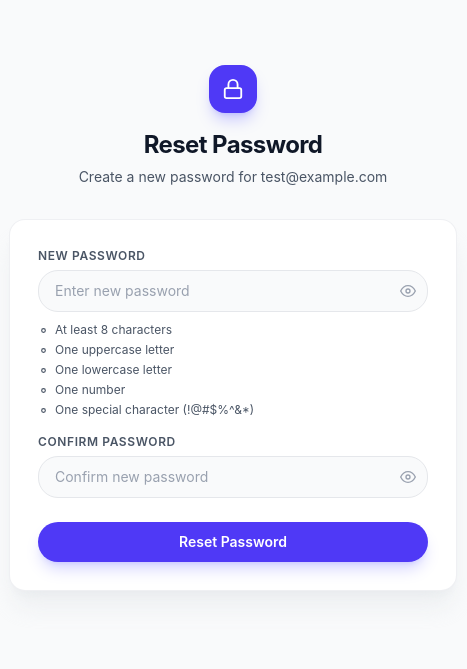
Test: ResetPasswordPage › Error Handling › should display error message on failure
Type "StrongP@ss123" into the password field labelled "New Password" at (233, 291), box [38,270,428,312]
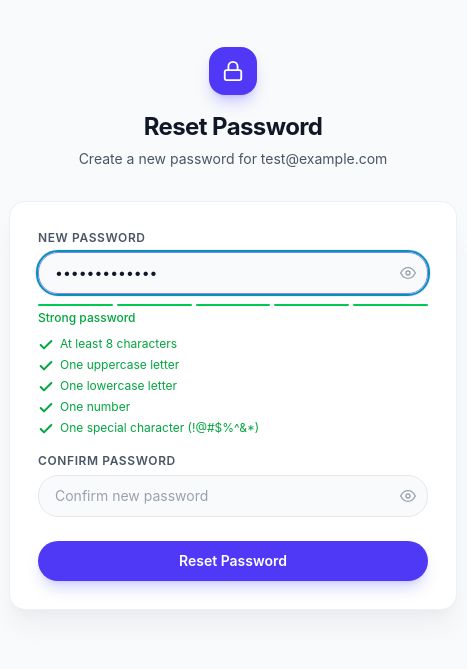
Type "StrongP@ss123" into the password field labelled "Confirm Password" at (233, 496), box [38,474,428,516]
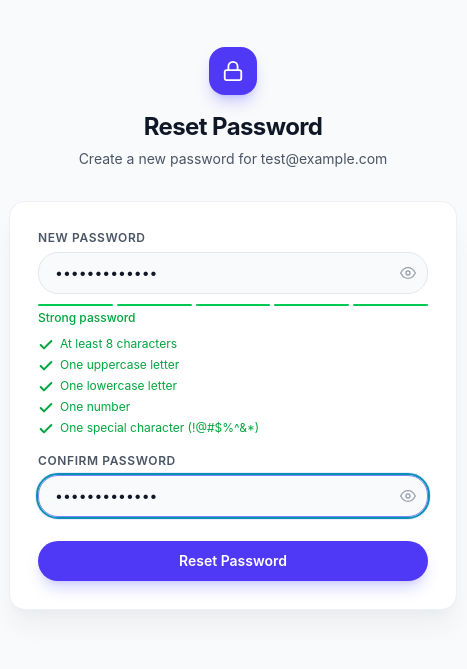
Click the button "Reset Password" at (233, 560), box [38,540,428,580]
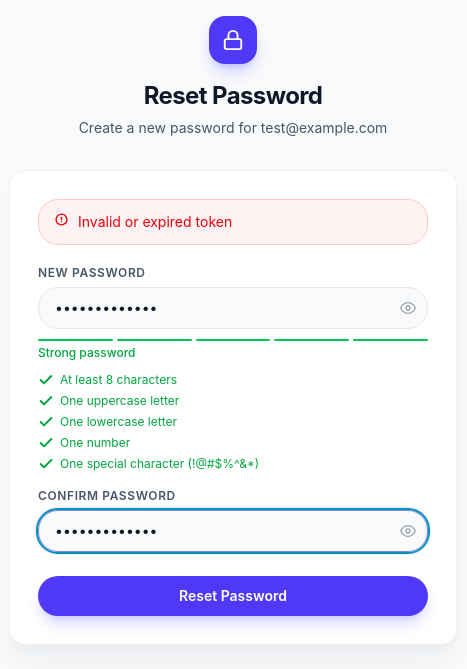
Check: the text "Invalid or expired token" is shown, box [78,212,232,232]
